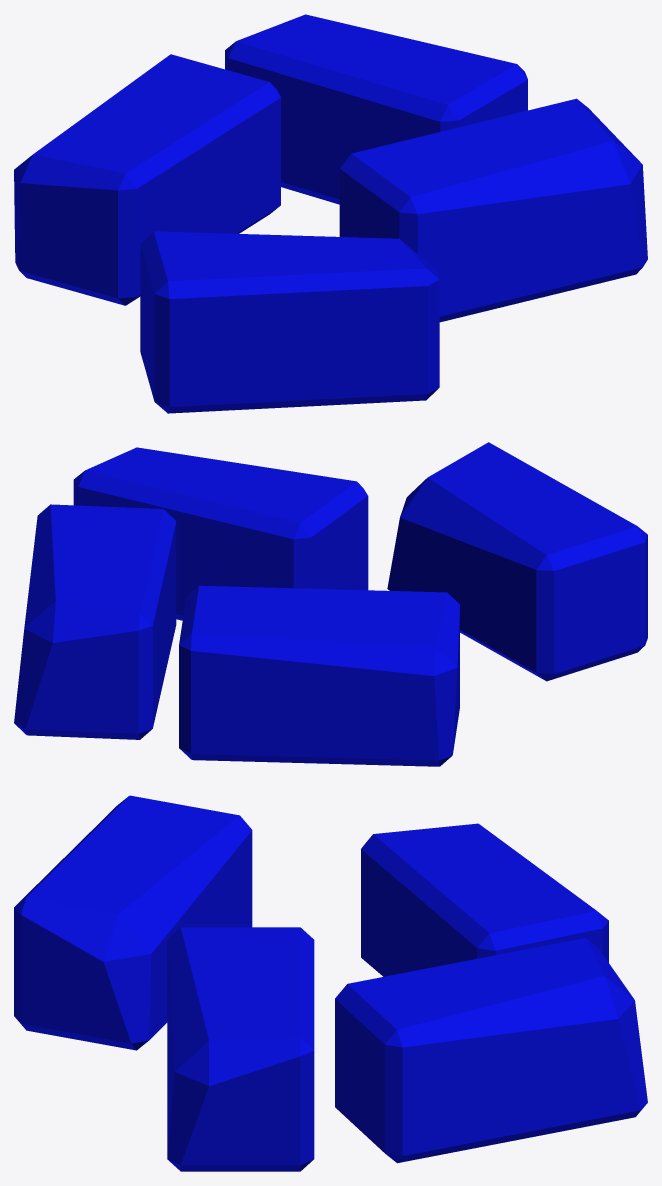
File: SM_Small_QuarryStones.fbx
The picture shows the model from 3 angles, top to bottom: view 1: azimuth 30°, elevation 25°; view 2: azimuth 150°, elevation 25°; view 3: azimuth 270°, elevation 25°; orthographic projection. The views are drawn at different scales.
Visible parts, largest first — view 1: SM_Small_QuarryStones; view 2: SM_Small_QuarryStones; view 3: SM_Small_QuarryStones.
Part boxes in pixels (x1,y1,x2,y2): SM_Small_QuarryStones: [14, 14, 647, 413]; SM_Small_QuarryStones: [14, 442, 647, 766]; SM_Small_QuarryStones: [14, 795, 647, 1171].
Bounding box in the file's own units: 143 × 35.35 × 149.
